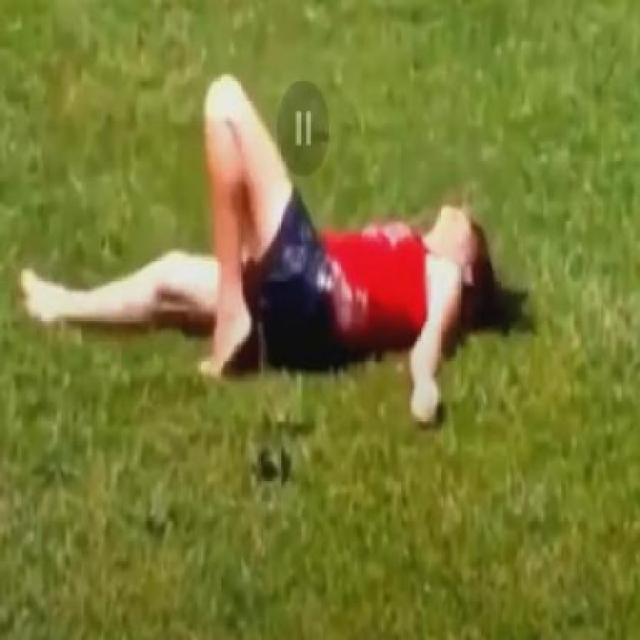fall: (15, 74, 491, 437)
